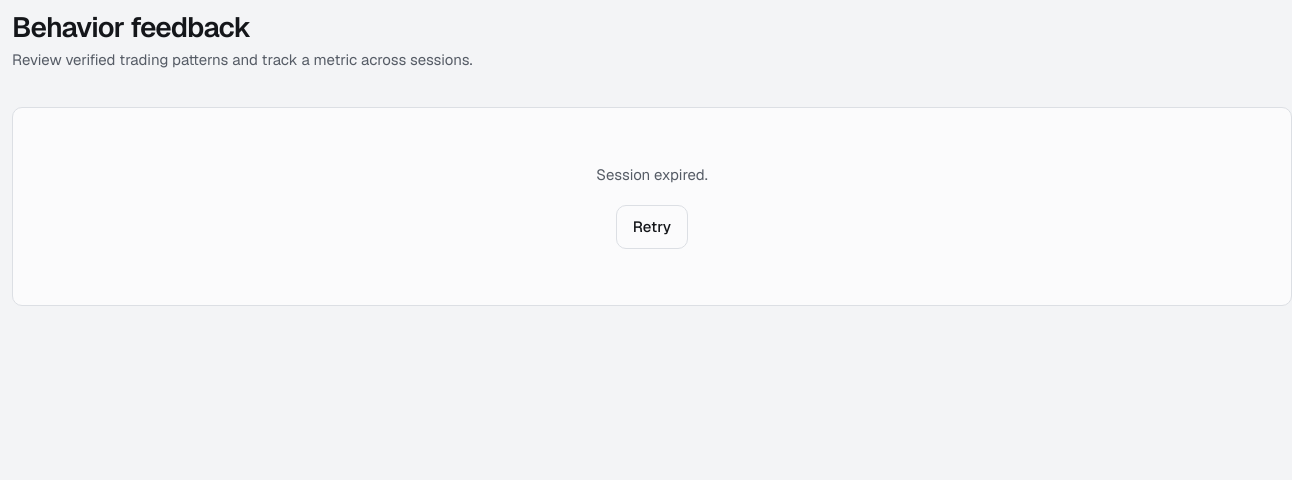
it: feedback workflow › allows retry after an initial load failure
Expected: the text "Session expired." is shown, [596,165,708,184]
What coordinates should you click on to do the following:
click the button "Retry"
I would click on:
 (652, 227)
Its box is [616,205,688,249].
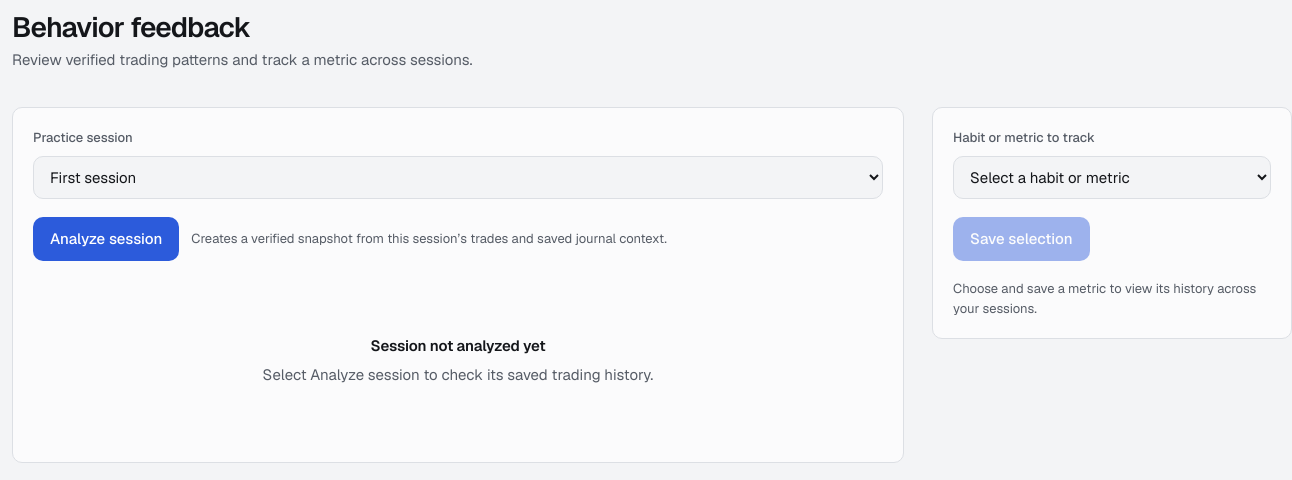
Expected: the heading "Session not analyzed yet" is shown, [370,336,546,355]
